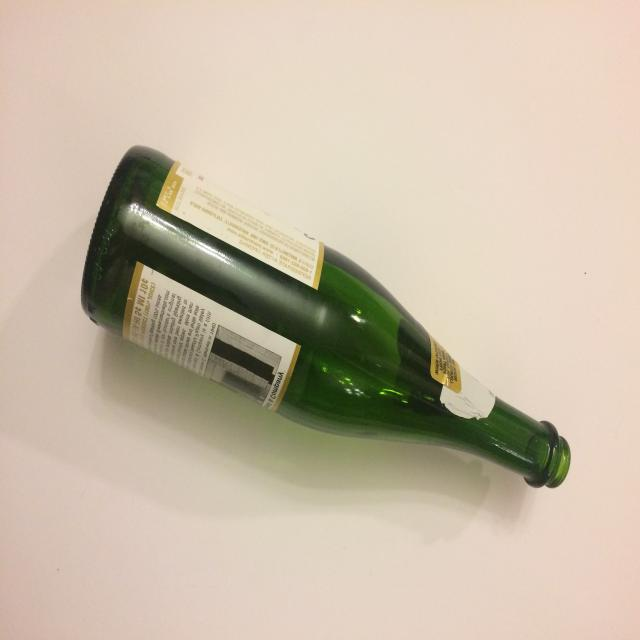glass: (80, 144, 571, 489)
